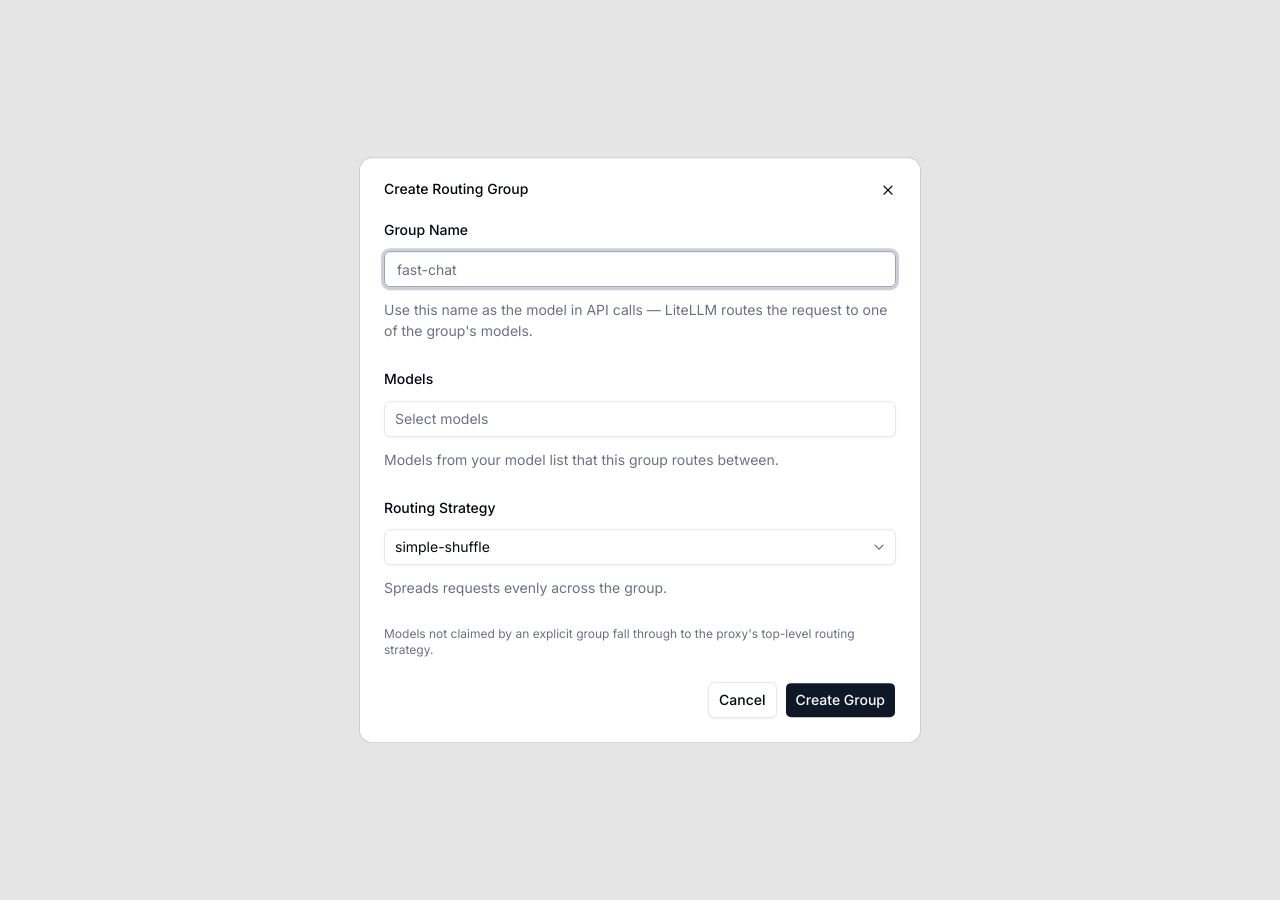
RoutingGroupModal › requires at least one model
Type "no-models" into the field labelled "Group Name" at x=640, y=269, box x1=384 y1=251 x2=896 y2=287
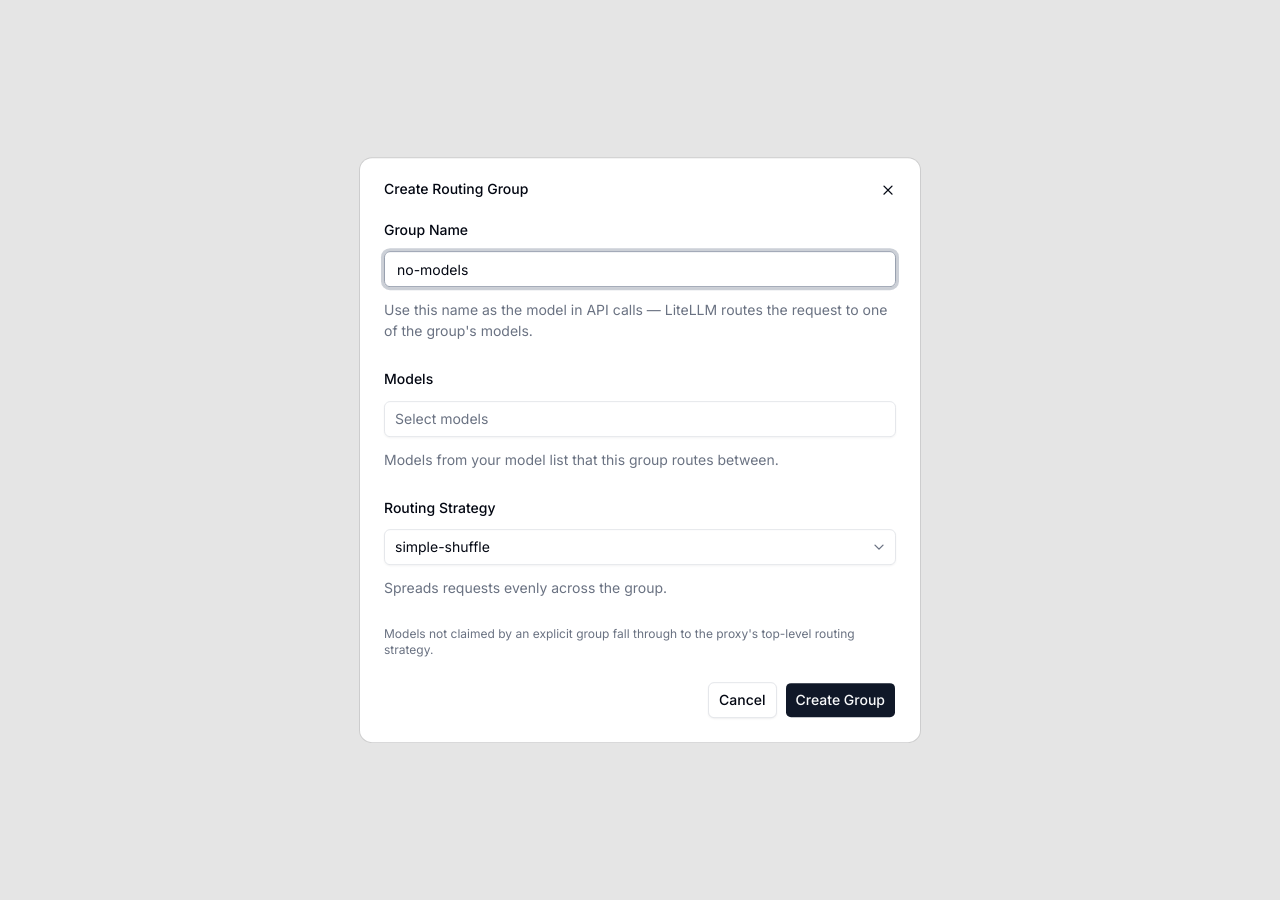
Click the button "Create Group" at x=840, y=700, box x1=784 y1=682 x2=896 y2=718
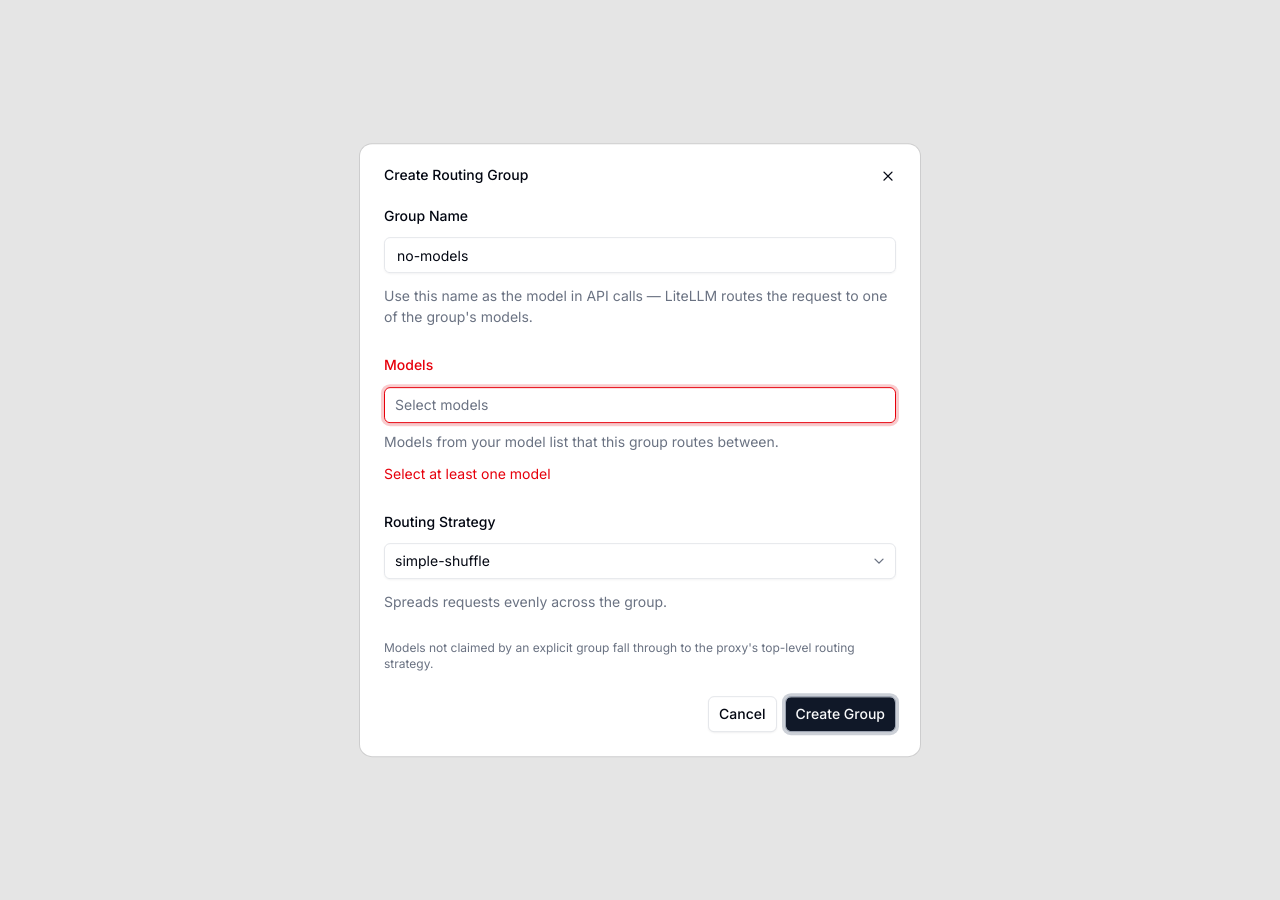
Expected: the text "Select at least one model" is shown, x1=384 y1=465 x2=551 y2=482
